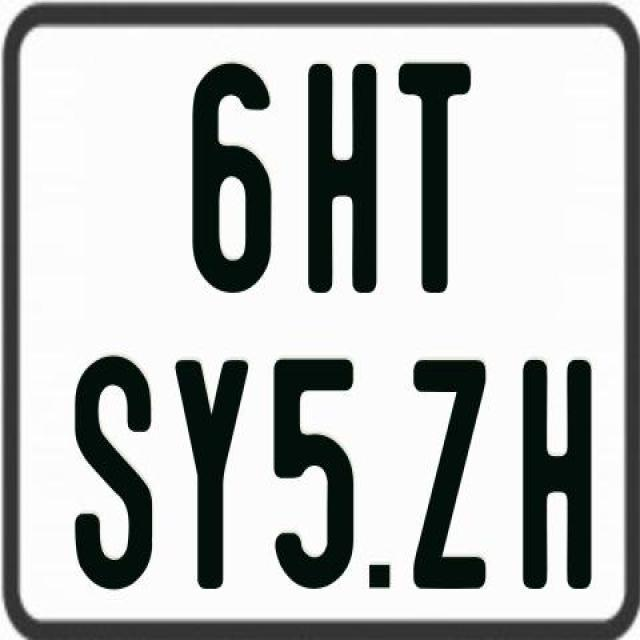5: (272, 358, 355, 590)
6: (188, 59, 274, 296)
H: (308, 64, 384, 301), (521, 357, 596, 592)
S: (73, 354, 155, 596)
T: (394, 59, 472, 298)
Y: (173, 357, 252, 586)
Z: (409, 355, 487, 587)
